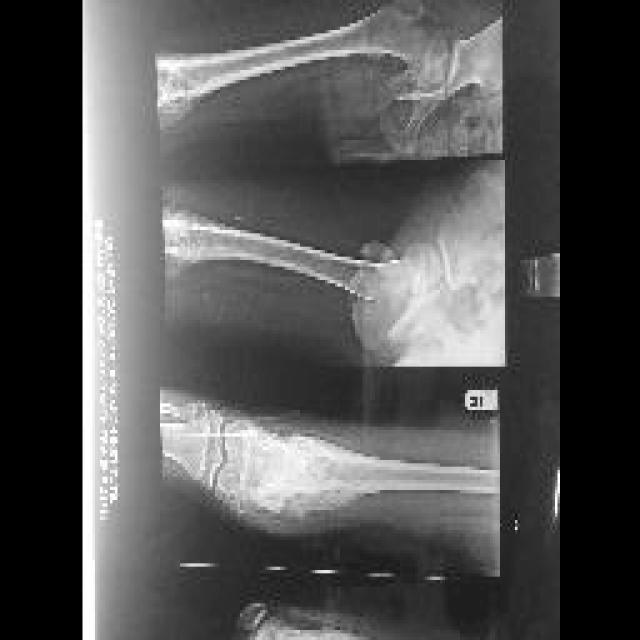bone-cancer: (221, 420, 378, 516), (152, 50, 210, 113), (170, 203, 219, 265), (249, 612, 350, 640)
